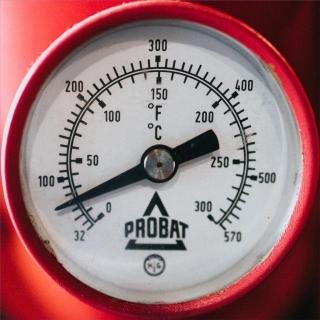gauge: (0, 0, 320, 320), (191, 198, 231, 242), (140, 144, 178, 184), (84, 198, 116, 236), (51, 199, 67, 215)
